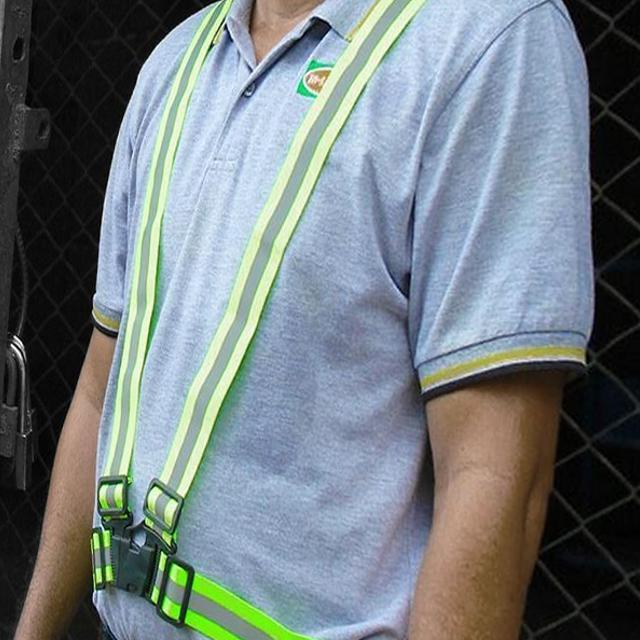Vest: (96, 0, 490, 634)
